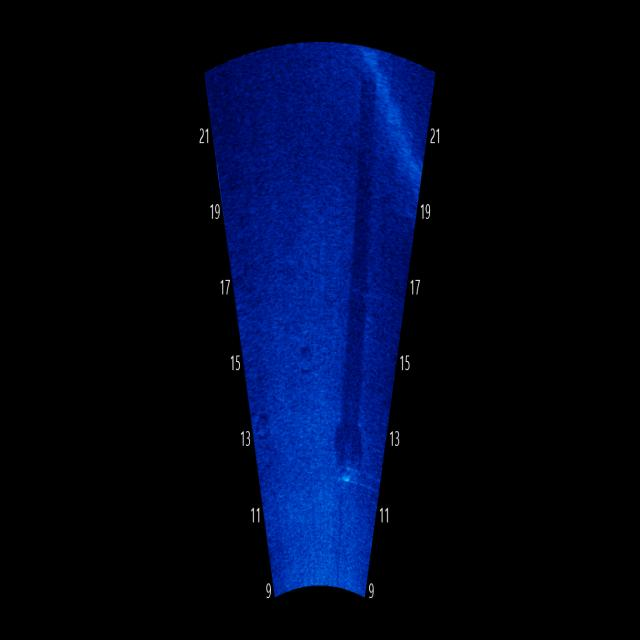circle: (296, 334, 322, 370), (252, 408, 274, 442)
square: (331, 416, 366, 484)
